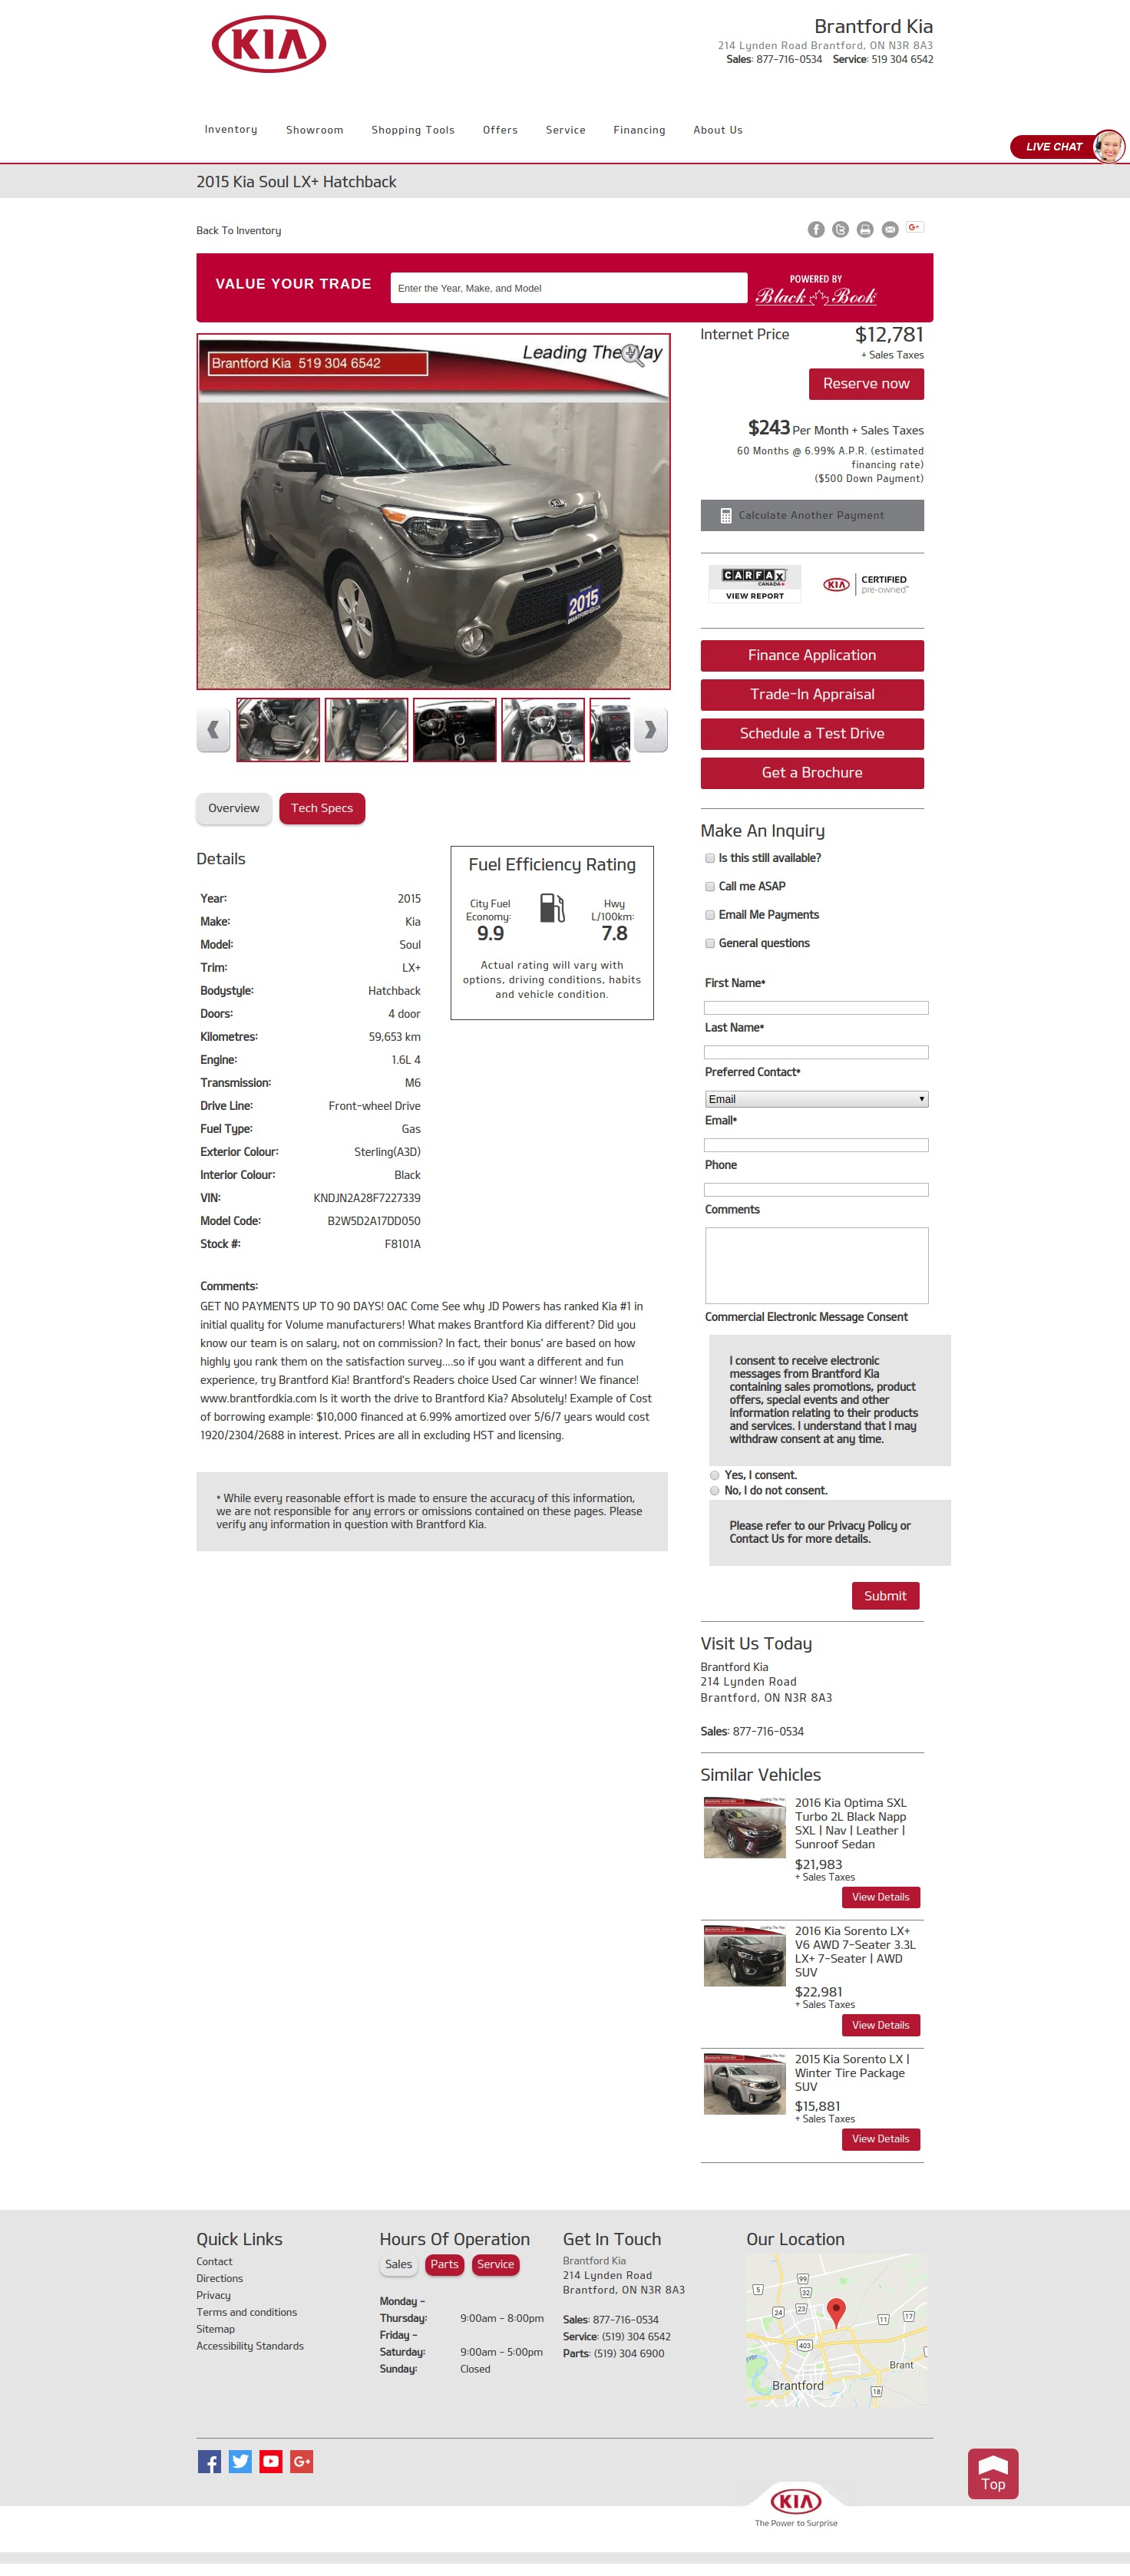car: (634, 708, 668, 754)
